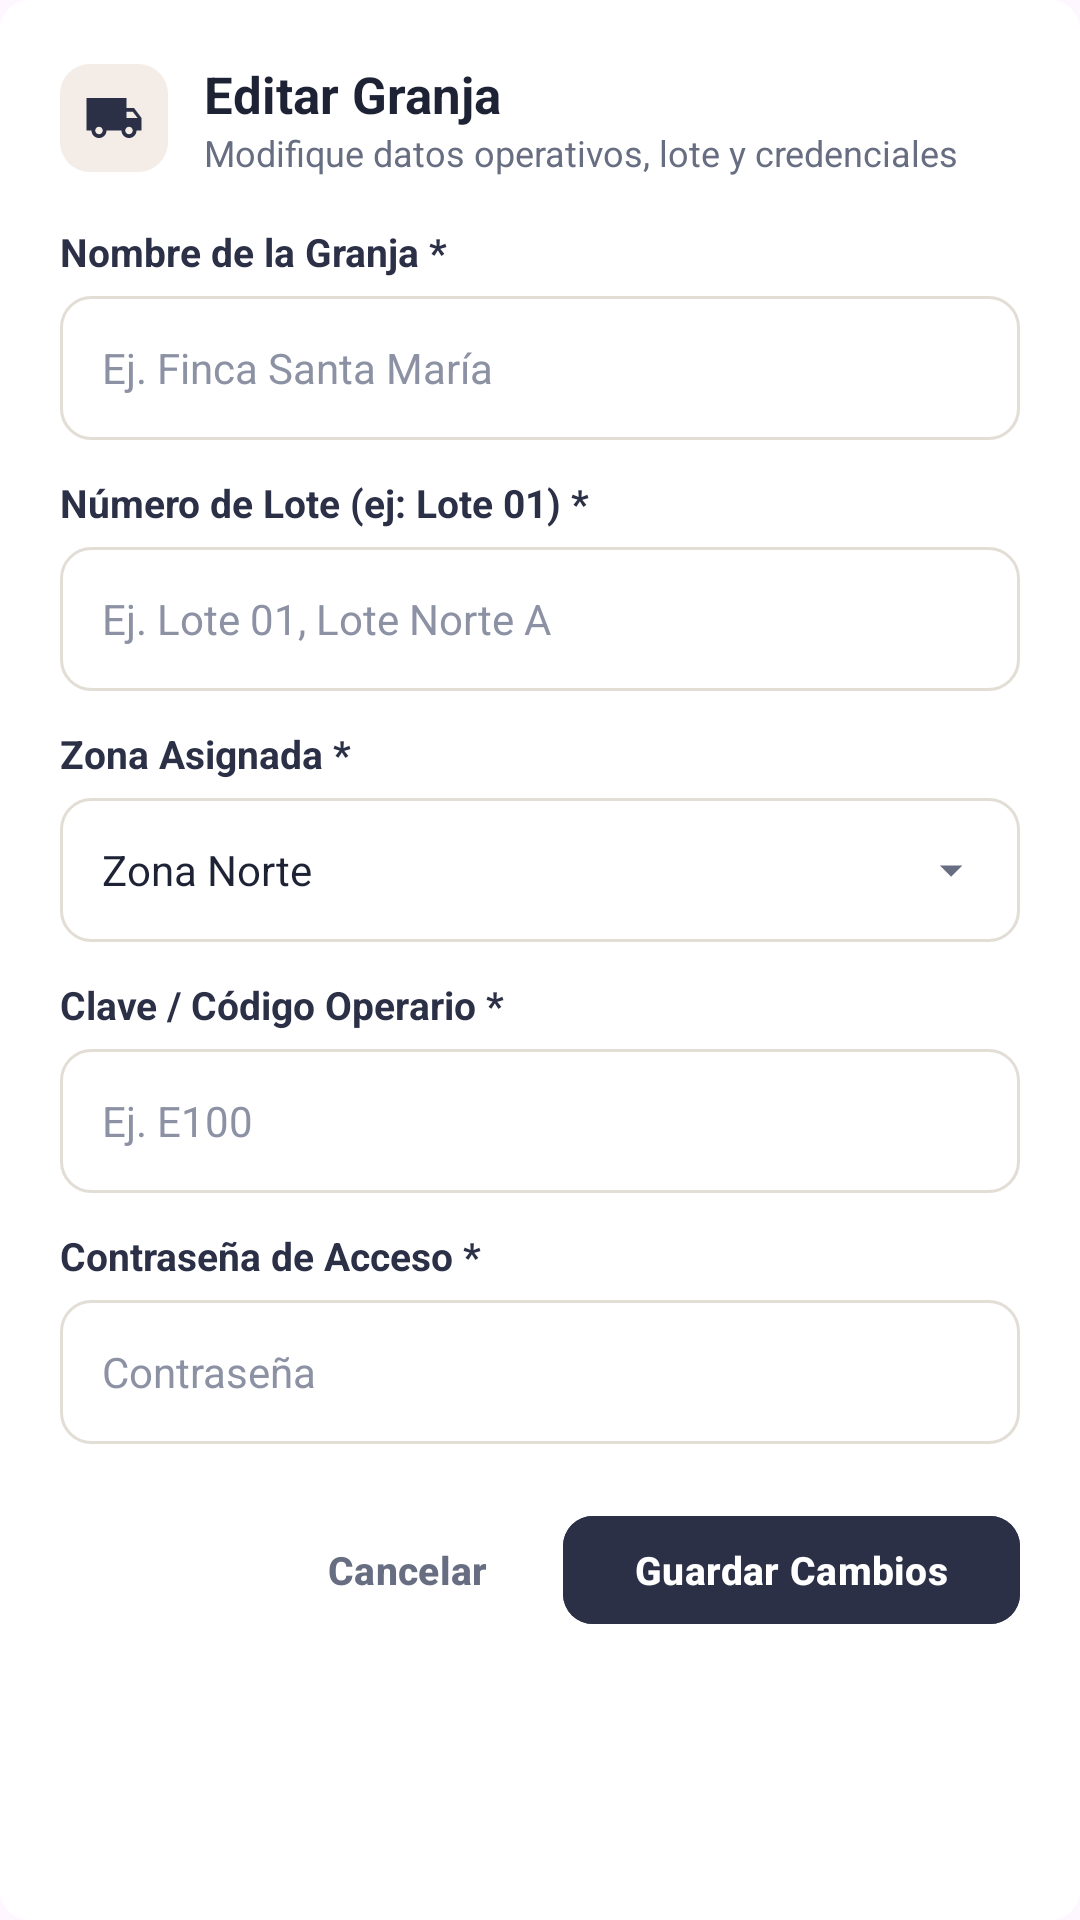

Where icons sit on this 1080w x 1920h app screen, as (x1, y1, x2, y2):
truck: (86, 98, 142, 138)
